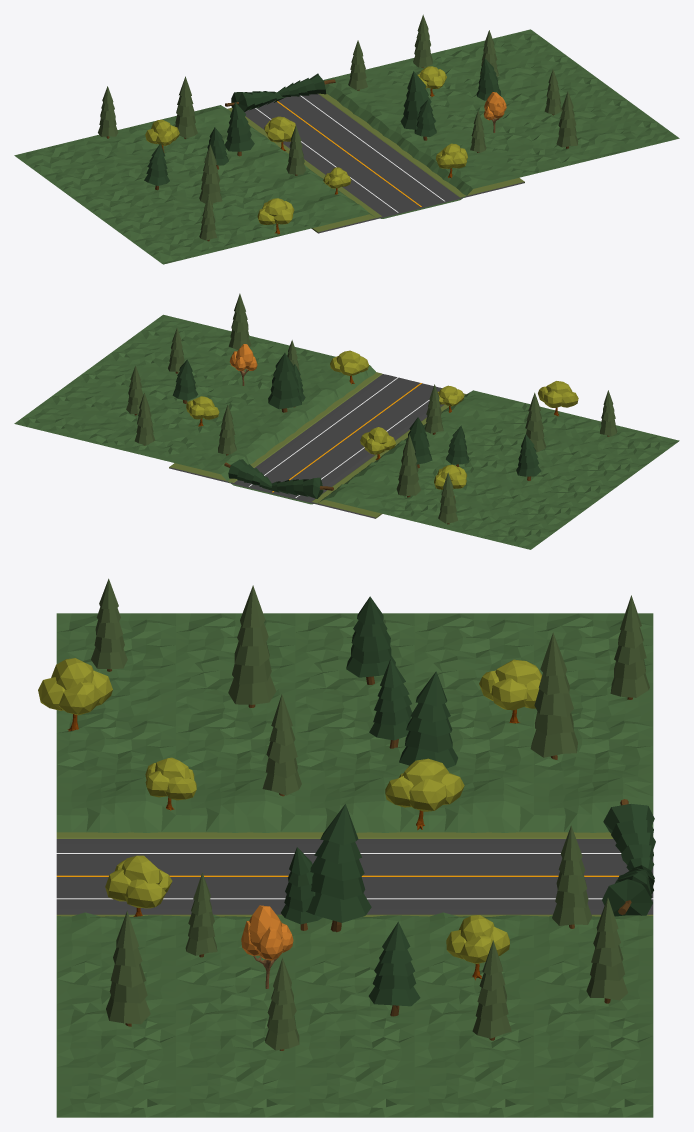
File: ForestRoadBehind.fbx
3 views of the same model, one above another, from view 1: azimuth 30°, elevation 25°; view 2: azimuth 150°, elevation 25°; view 3: azimuth 270°, elevation 25° (orthographic). The views are drawn at different scales.
Visible parts, largest first — view 1: FRBPlane, FRBRoad, FRBPlane|pineTree04|Dupli|11, FRBPlane|pineTree04|Dupli|15, FRBPlane|pineTree05|Dupli|21, FRBPlane|pineTree05|Dupli|7, FRBPlane|oakTree|Dupli|2, FRBPlane|pineTree05|Dupli|3, pineTree04.002, pineTree04.001, FRBPlane|pineTree04|Dupli|12, FRBPlane|pineTree05|Dupli|22 (+16 smaller); view 2: FRBPlane, FRBRoad, FRBPlane|pineTree04|Dupli|11, FRBPlane|pineTree05|Dupli|21, pineTree04.002, FRBPlane|oakTree|Dupli|2, FRBPlane|pineTree05|Dupli|3, FRBPlane|oakTree|Dupli|1, pineTree04.001, FRBPlane|pineTree05|Dupli|7, FRBPlane|oakTree|Dupli|16, FRBPlane|pineTree04|Dupli|12 (+14 smaller); view 3: FRBPlane, FRBRoad, FRBPlane|pineTree04|Dupli|11, FRBPlane|pineTree05|Dupli|21, FRBPlane|pineTree05|Dupli|7, FRBPlane|pineTree04|Dupli|15, FRBPlane|pineTree05|Dupli|3, FRBPlane|oakTree|Dupli|2, FRBPlane|oakTree|Dupli|16, FRBPlane|pineTree04|Dupli|14, FRBPlane|pineTree05|Dupli|22, FRBPlane|pineTree04|Dupli|12 (+16 smaller).
Boxes of the visible parts, <box> form: FRBPlane: <box>14,29,679,264</box>; FRBRoad: <box>227,93,524,233</box>; FRBPlane|pineTree04|Dupli|11: <box>400,71,435,129</box>; FRBPlane|pineTree04|Dupli|15: <box>225,102,254,156</box>; FRBPlane|pineTree05|Dupli|21: <box>175,76,197,138</box>; FRBPlane|pineTree05|Dupli|7: <box>199,144,222,204</box>; FRBPlane|oakTree|Dupli|2: <box>257,198,294,234</box>; FRBPlane|pineTree05|Dupli|3: <box>556,91,578,148</box>; pineTree04.002: <box>225,91,285,111</box>; pineTree04.001: <box>277,73,335,96</box>; FRBPlane|pineTree04|Dupli|12: <box>144,143,169,190</box>; FRBPlane|pineTree05|Dupli|22: <box>413,14,432,67</box>; FRBPlane: <box>14,314,679,549</box>; FRBRoad: <box>169,372,466,518</box>; FRBPlane|pineTree04|Dupli|11: <box>268,353,301,412</box>; FRBPlane|pineTree05|Dupli|21: <box>396,434,420,497</box>; pineTree04.002: <box>262,477,333,498</box>; FRBPlane|oakTree|Dupli|2: <box>538,381,578,416</box>; FRBPlane|pineTree05|Dupli|3: <box>228,293,251,349</box>; FRBPlane|oakTree|Dupli|1: <box>330,350,369,384</box>; pineTree04.001: <box>224,459,271,488</box>; FRBPlane|pineTree05|Dupli|7: <box>525,392,545,451</box>; FRBPlane|oakTree|Dupli|16: <box>360,427,395,460</box>; FRBPlane|pineTree04|Dupli|12: <box>516,434,541,480</box>; FRBPlane: <box>56,613,653,1117</box>; FRBRoad: <box>56,832,653,916</box>; FRBPlane|pineTree04|Dupli|11: <box>306,804,371,932</box>; FRBPlane|pineTree05|Dupli|21: <box>530,632,577,759</box>; FRBPlane|pineTree05|Dupli|7: <box>228,585,276,707</box>; FRBPlane|pineTree04|Dupli|15: <box>399,671,457,768</box>; FRBPlane|pineTree05|Dupli|3: <box>106,911,150,1026</box>; FRBPlane|oakTree|Dupli|2: <box>38,658,112,731</box>; FRBPlane|oakTree|Dupli|16: <box>385,758,464,830</box>; FRBPlane|pineTree04|Dupli|14: <box>368,921,420,1016</box>; FRBPlane|pineTree05|Dupli|22: <box>586,897,627,1003</box>; FRBPlane|pineTree04|Dupli|12: <box>346,596,395,684</box>.
Size of what is drawn, in the model's own units: 20002 by 2606 by 10357.
